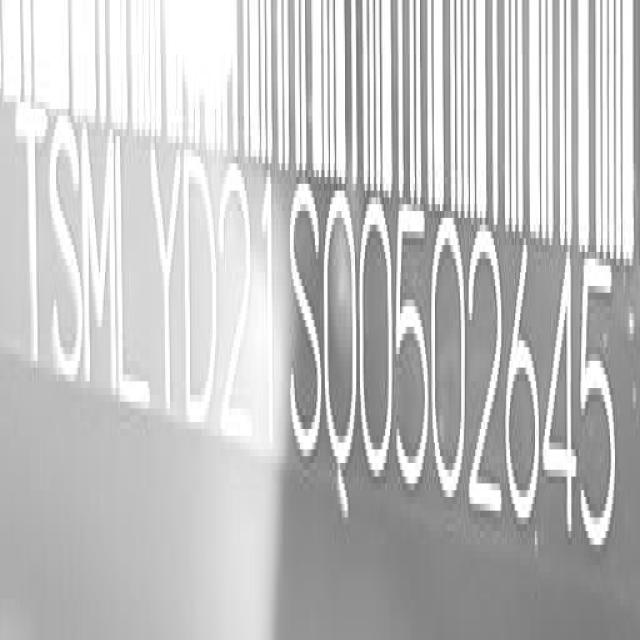0: (430, 202, 466, 502), (358, 196, 392, 484), (324, 182, 355, 472), (256, 164, 281, 456)
2: (218, 163, 255, 451), (469, 224, 503, 524)
4: (542, 247, 576, 550)
5: (580, 250, 618, 559), (394, 197, 428, 498)
6: (508, 232, 541, 538)
D: (184, 145, 218, 434)
L: (115, 113, 152, 406)
M: (81, 111, 116, 396)
S: (290, 180, 324, 470), (49, 106, 82, 388)
T: (12, 93, 46, 374)
Y: (148, 128, 184, 414)
